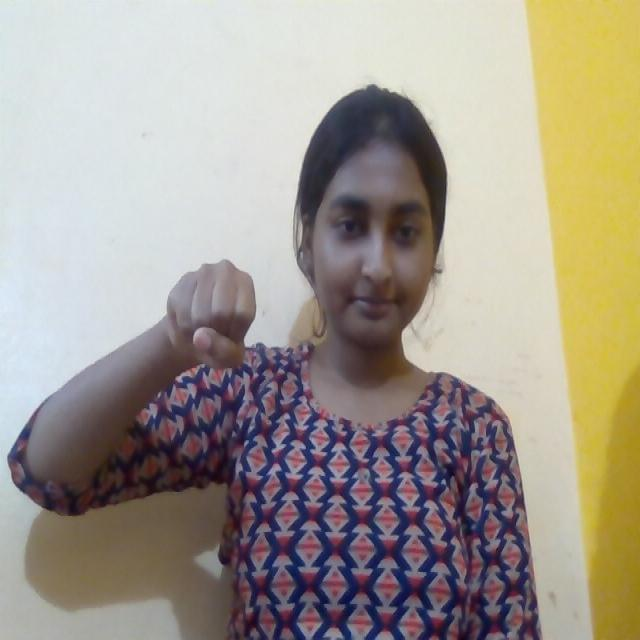Yes: (154, 233, 268, 379)
